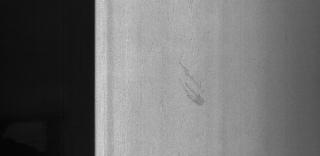water spot: (174, 60, 218, 104)
